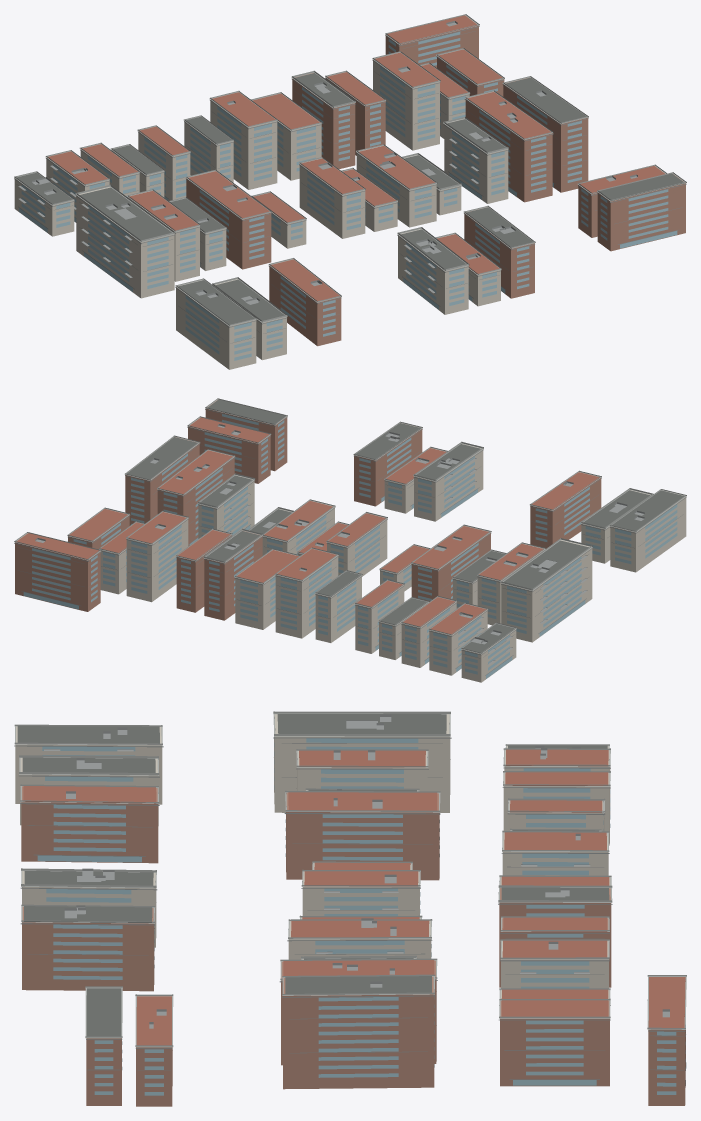
Rendered from tile-m003-m003.glb.
3 views of the same model, one above another, from view 1: azimuth 30°, elevation 25°; view 2: azimuth 150°, elevation 25°; view 3: azimuth 270°, elevation 25° (orthographic). The views are drawn at different scales.
Parts seen in each view (by area): view 1: building-0006-mesh-20, building-0161-mesh-158, building-0164-mesh-176, building-0168-mesh-188, building-0002-mesh-0, building-0165-mesh-182, building-0009-mesh-41, building-0004-mesh-14, building-0086-mesh-134, building-0088-mesh-147, building-0163-mesh-169, building-0079-mesh-90 (+75 smaller); view 2: building-0173-mesh-205, building-0006-mesh-20, building-0168-mesh-188, building-0002-mesh-0, building-0004-mesh-14, building-0086-mesh-134, building-0088-mesh-147, building-0077-mesh-76, building-0079-mesh-90, building-0162-mesh-163, building-0006-mesh-21, building-0009-mesh-41 (+73 smaller); view 3: building-0165-mesh-182, building-0079-mesh-90, building-0009-mesh-41, building-0004-mesh-14, building-0170-mesh-200, building-0006-mesh-20, building-0165-mesh-183, building-0006-mesh-24, building-0009-mesh-44, building-0004-mesh-15, building-0165-mesh-185, building-0173-mesh-205 (+62 smaller).
Part boxes in pixels (left/top/right/bottom): building-0006-mesh-20: left=76, top=187, right=174, bottom=298; building-0161-mesh-158: left=597, top=174, right=685, bottom=251; building-0164-mesh-176: left=465, top=92, right=552, bottom=202; building-0168-mesh-188: left=373, top=60, right=439, bottom=150; building-0002-mesh-0: left=176, top=280, right=256, bottom=369; building-0165-mesh-182: left=503, top=77, right=588, bottom=192; building-0009-mesh-41: left=186, top=171, right=271, bottom=269; building-0004-mesh-14: left=269, top=263, right=341, bottom=346; building-0086-mesh-134: left=210, top=100, right=277, bottom=189; building-0088-mesh-147: left=292, top=73, right=355, bottom=169; building-0163-mesh-169: left=444, top=119, right=508, bottom=203; building-0079-mesh-90: left=464, top=209, right=534, bottom=298; building-0173-mesh-205: left=15, top=533, right=100, bottom=611; building-0006-mesh-20: left=501, top=540, right=592, bottom=642; building-0168-mesh-188: left=126, top=518, right=188, bottom=602; building-0002-mesh-0: left=610, top=490, right=686, bottom=572; building-0004-mesh-14: left=530, top=473, right=601, bottom=548; building-0086-mesh-134: left=275, top=556, right=338, bottom=638; building-0088-mesh-147: left=204, top=530, right=262, bottom=620; building-0077-mesh-76: left=414, top=444, right=483, bottom=521; building-0079-mesh-90: left=354, top=429, right=422, bottom=506; building-0162-mesh-163: left=188, top=417, right=270, bottom=483; building-0006-mesh-21: left=507, top=556, right=585, bottom=636; building-0009-mesh-41: left=411, top=526, right=490, bottom=601; building-0165-mesh-182: left=283, top=976, right=434, bottom=1089; building-0079-mesh-90: left=22, top=906, right=154, bottom=991; building-0009-mesh-41: left=286, top=792, right=439, bottom=880; building-0004-mesh-14: left=21, top=786, right=158, bottom=863; building-0170-mesh-200: left=500, top=1000, right=609, bottom=1086; building-0006-mesh-20: left=274, top=714, right=450, bottom=812; building-0165-mesh-183: left=318, top=996, right=434, bottom=1077; building-0006-mesh-24: left=277, top=714, right=446, bottom=733; building-0009-mesh-44: left=288, top=792, right=437, bottom=810; building-0004-mesh-15: left=37, top=804, right=141, bottom=862; building-0165-mesh-185: left=285, top=976, right=431, bottom=993; building-0173-mesh-205: left=648, top=1029, right=685, bottom=1105.
Size of the model in its own units: 272 by 38.3 by 240.
